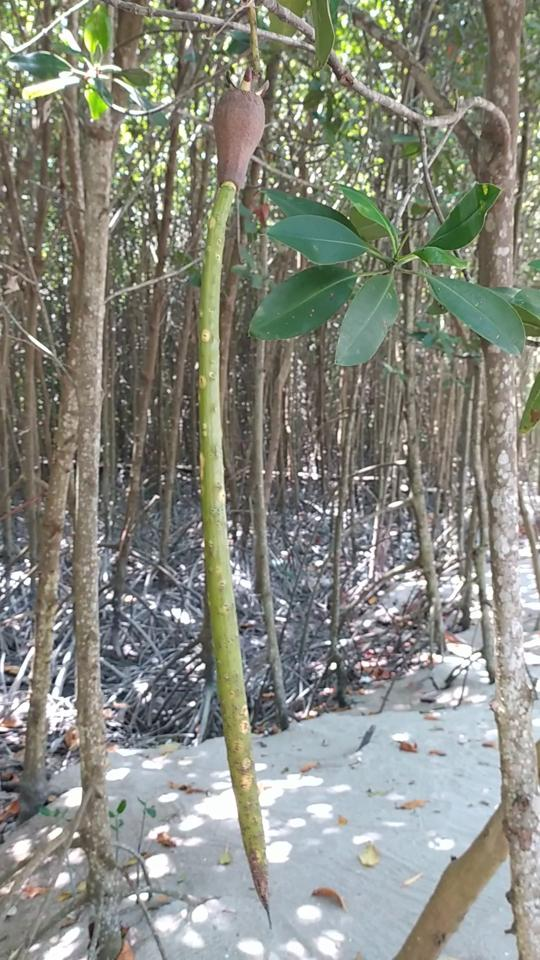setengah matang: (191, 60, 290, 927)
